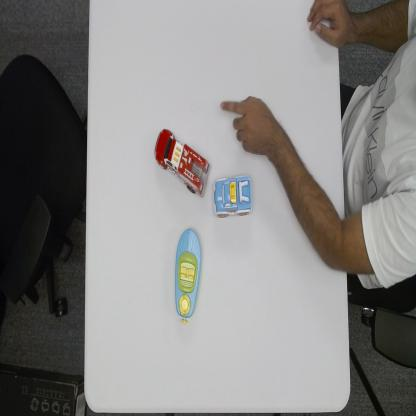Arm: (273, 138, 346, 274)
Boat: (174, 226, 203, 324)
Car: (211, 173, 254, 221)
Firetruck: (153, 126, 211, 198)
Hand: (219, 93, 273, 155), (304, 0, 340, 49)
